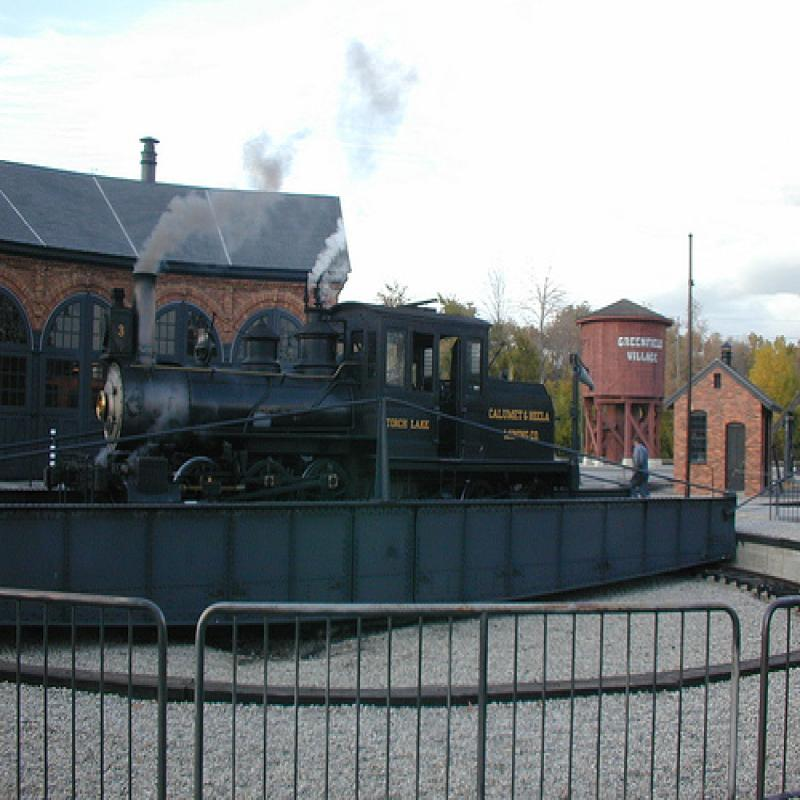train: (46, 296, 585, 503)
